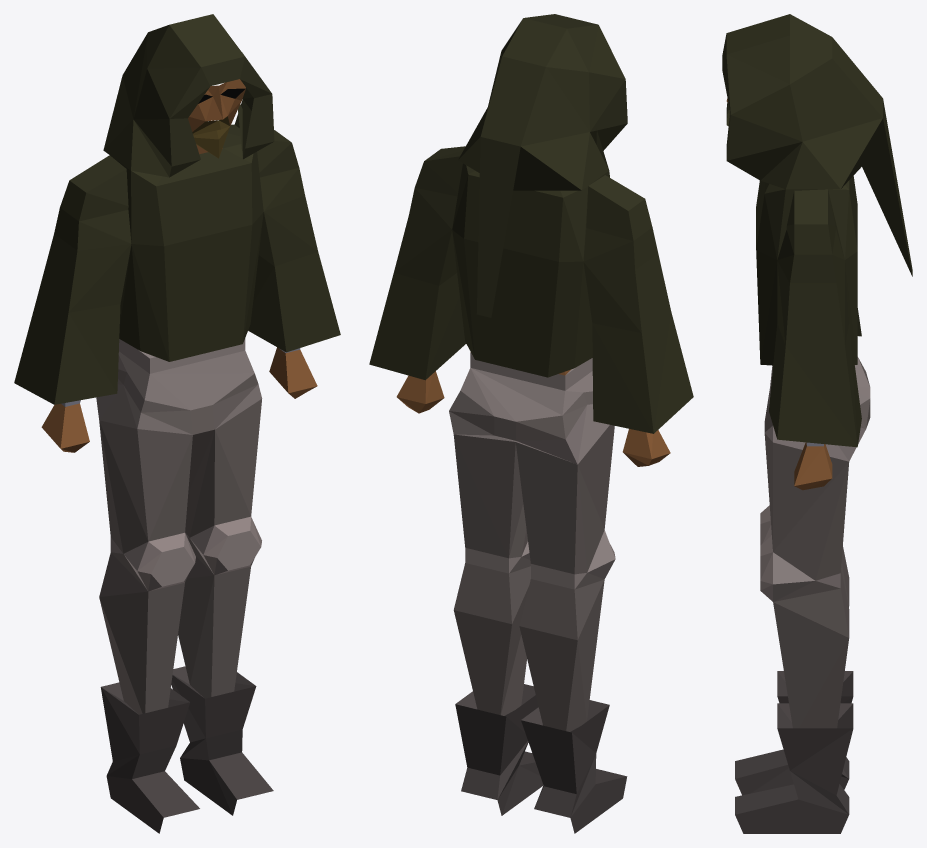
The model's file is platelegs-shops.gltf.
3 views of the same model, side by side, from view 1: azimuth 30°, elevation 25°; view 2: azimuth 150°, elevation 25°; view 3: azimuth 270°, elevation 25° (orthographic).
Size of the model in its own units: 78 by 204 by 45.
Materials: 1 (1 with a texture image).
